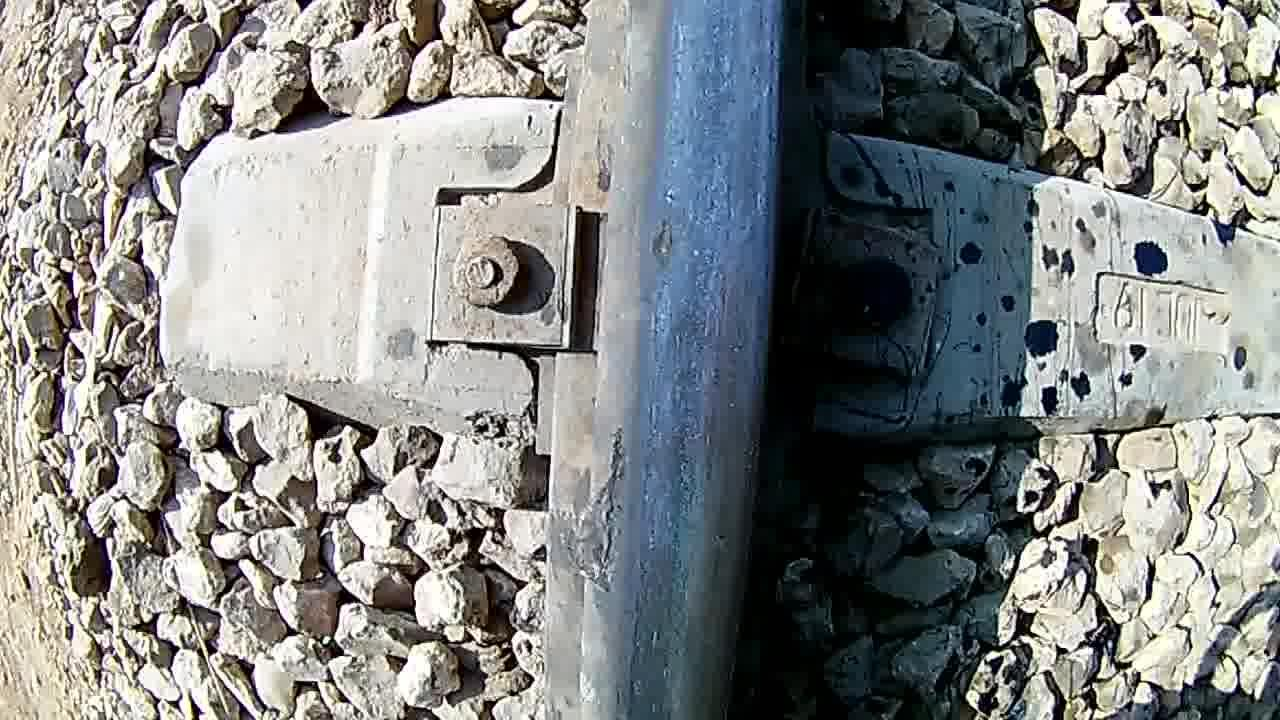clip_missing: (626, 0, 792, 720)
